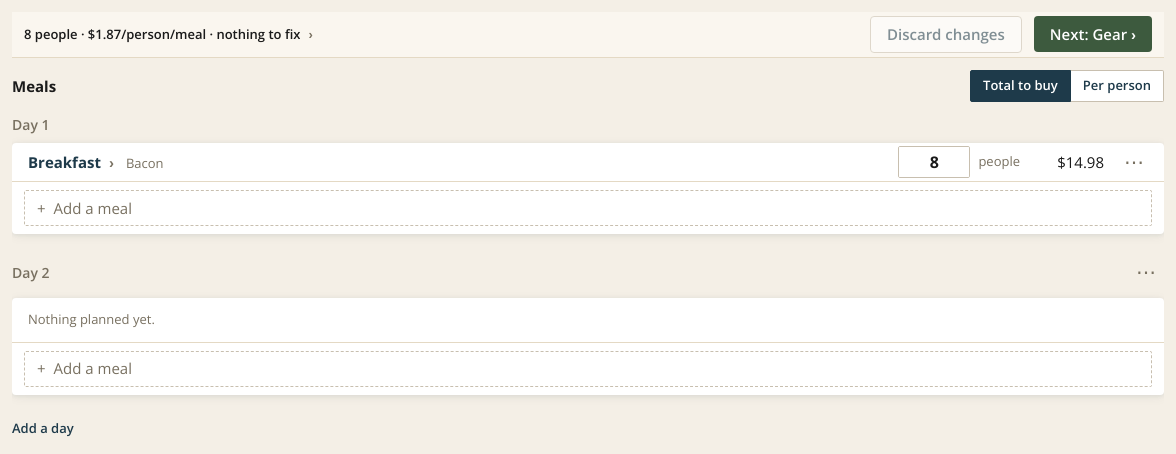
PlanTab › AddAMeal_OffersOnlyTheMealsTheDayLacks
Click the button "+ Add a meal" below "Bacon" at [93, 208], box [24, 190, 1152, 226]
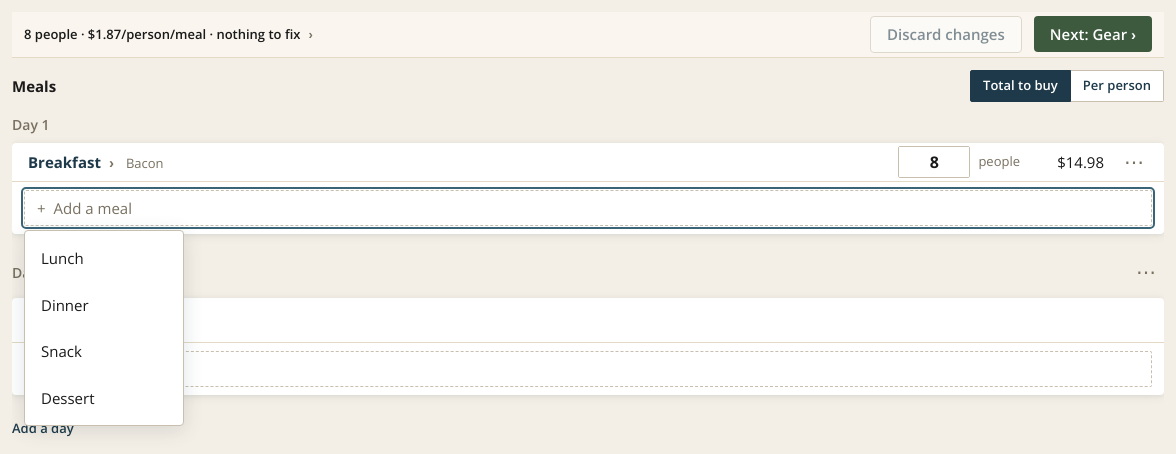
Now the buttons read "Lunch", "Dinner", "Snack", "Dessert", in this order, box [25, 235, 183, 282]; [25, 282, 183, 328]; [25, 328, 183, 374]; [25, 374, 183, 421]
